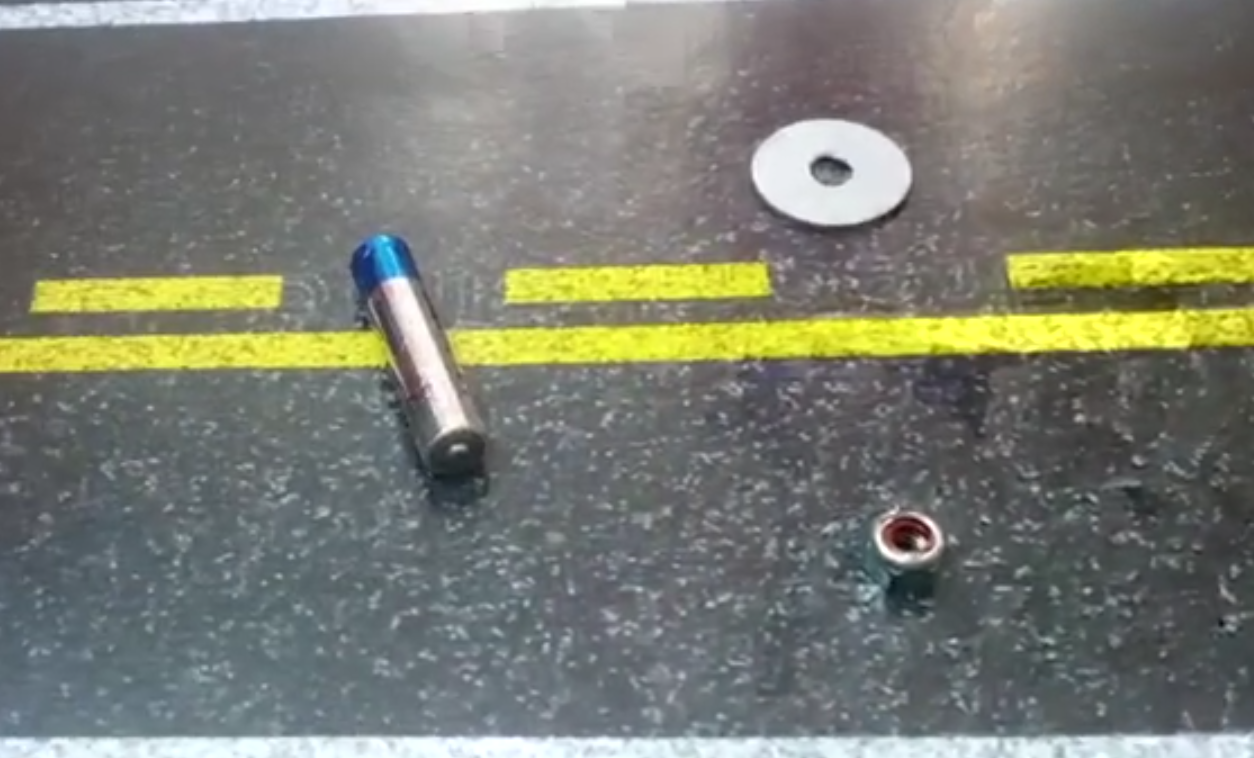metal: (336, 232, 487, 479), (750, 114, 922, 232), (866, 505, 947, 587)
